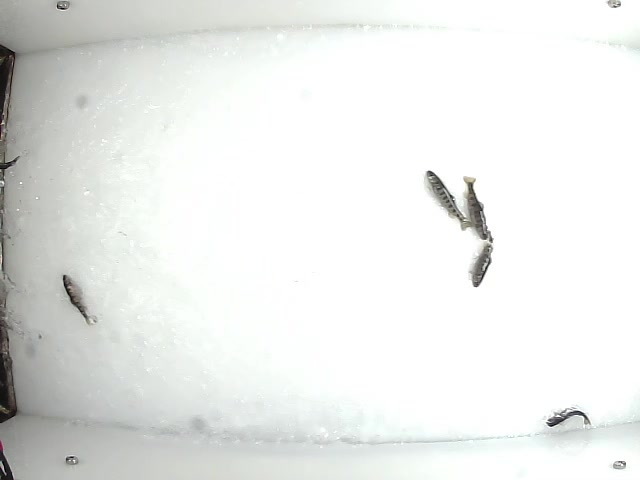fish: (424, 170, 476, 232), (459, 173, 490, 241), (61, 272, 98, 325), (468, 239, 496, 289), (543, 408, 591, 430)
